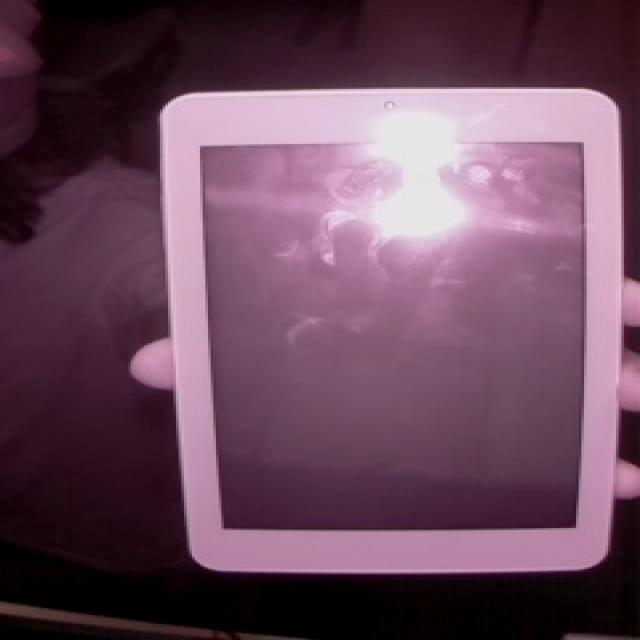phone: (139, 74, 640, 586)
